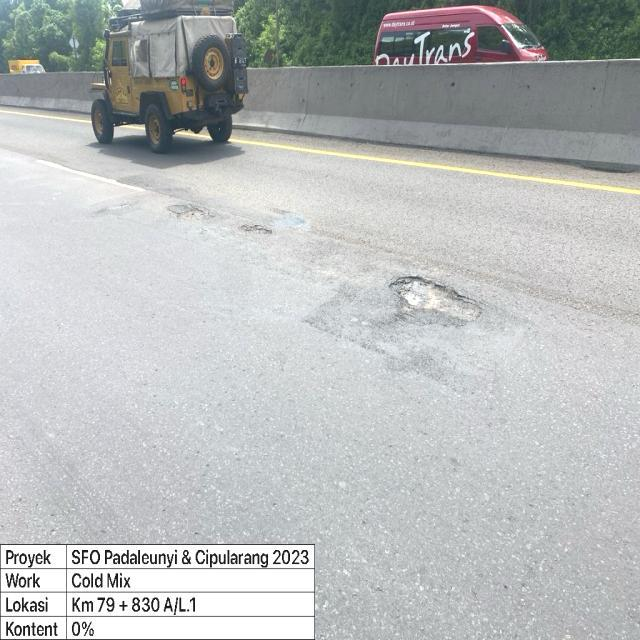Buraco: (386, 274, 486, 325), (570, 159, 640, 176), (166, 202, 214, 223)
